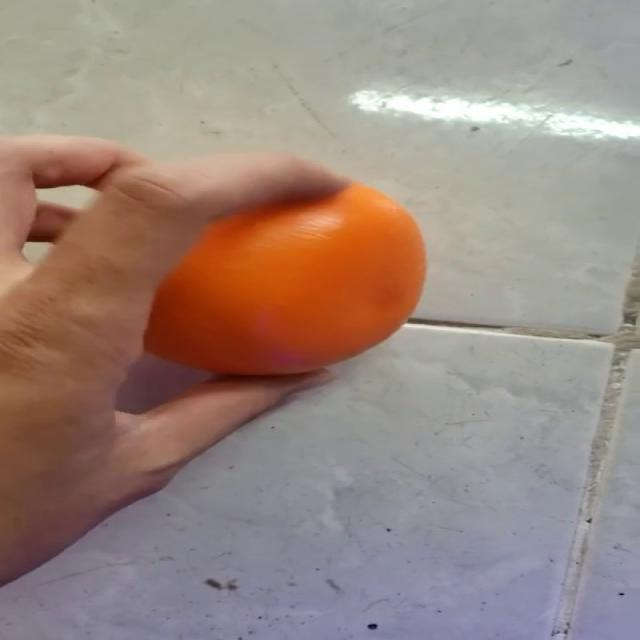Orange: (141, 176, 427, 377)
